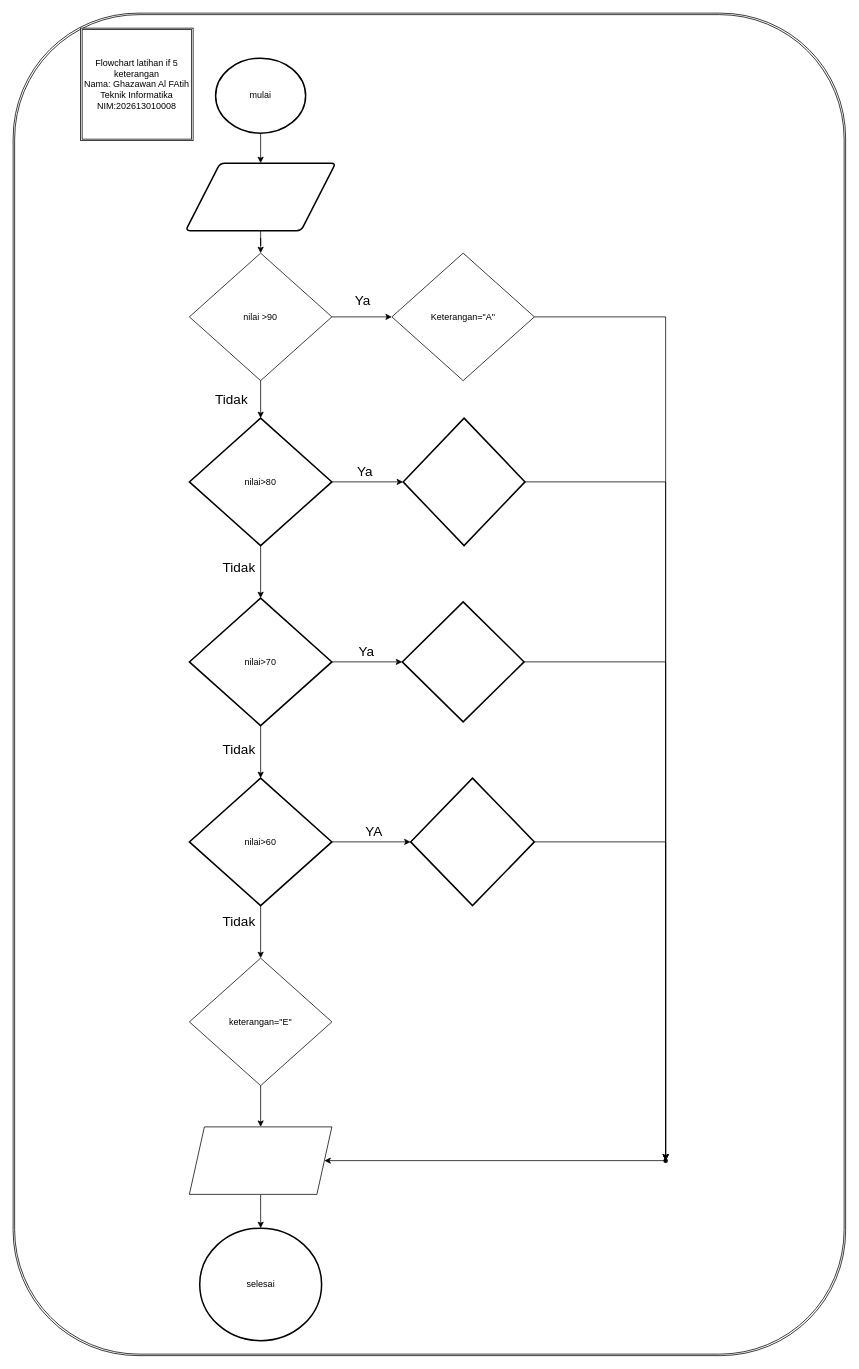
Some shapes in this 859 by 1369 pixel diagram are drawn without their labels. Here are the shapes that lost their labels. From the top down, the centre of each, then its label:
(x=260, y=196): Input masukan Nila
(x=463, y=481): keterangam="B"
(x=462, y=661): keterangan="C"
(x=472, y=841): keterangan="D"
(x=260, y=1160): output hasil
